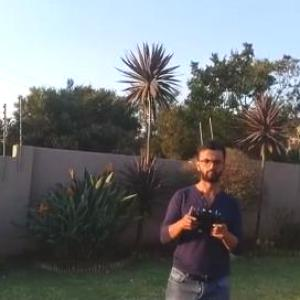follow: (154, 129, 250, 299)
